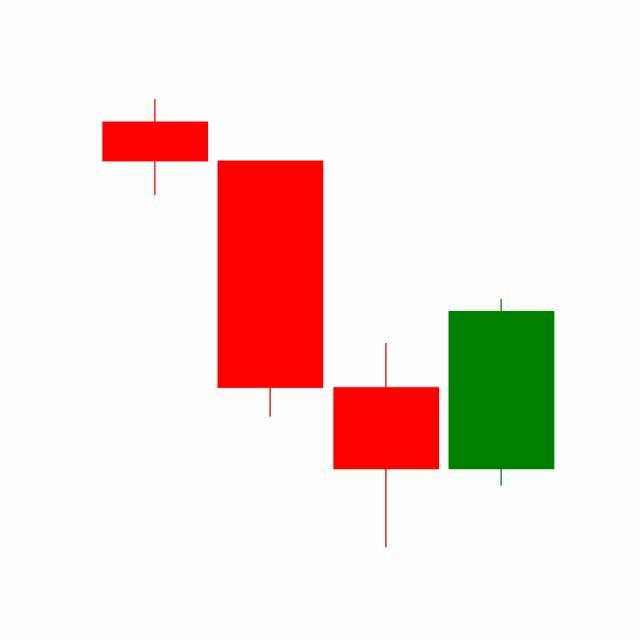Marubozu: (444, 298, 560, 490)
